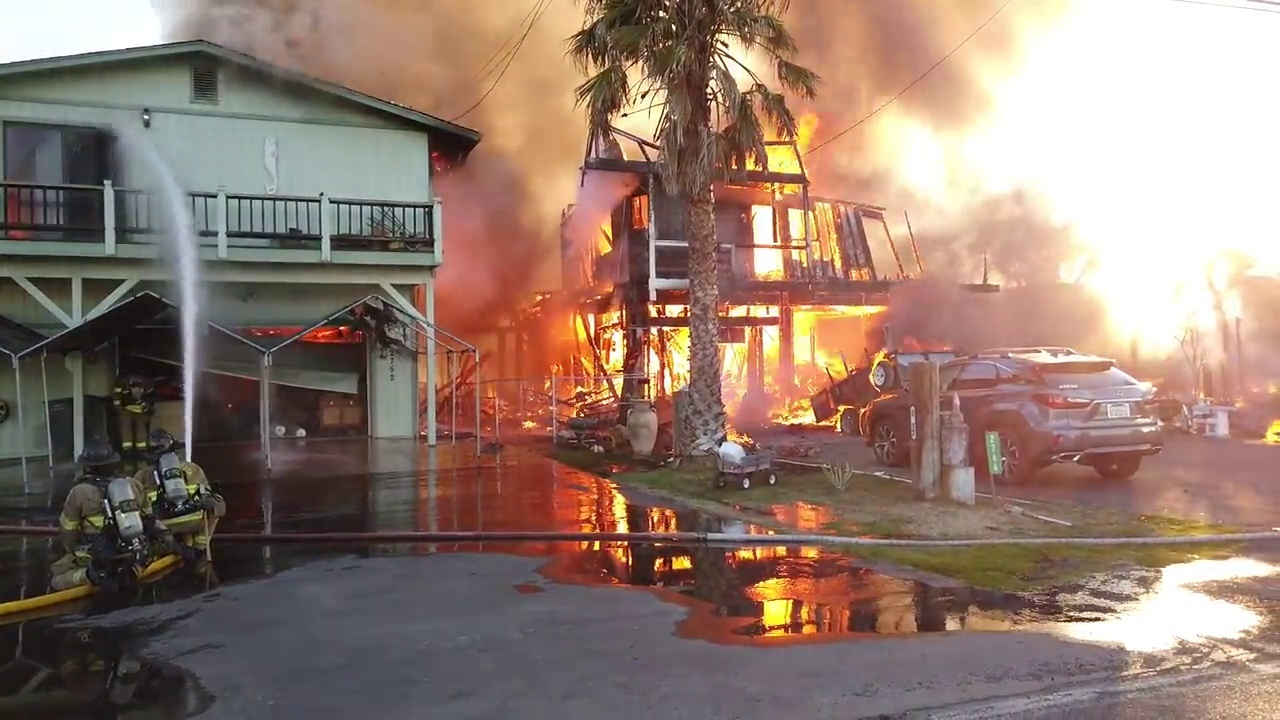fire: (554, 87, 905, 629), (250, 319, 364, 349), (1257, 409, 1280, 444)
smoke: (141, 1, 587, 81), (435, 147, 550, 364), (1071, 241, 1255, 356), (892, 245, 1047, 365), (793, 2, 975, 86)
